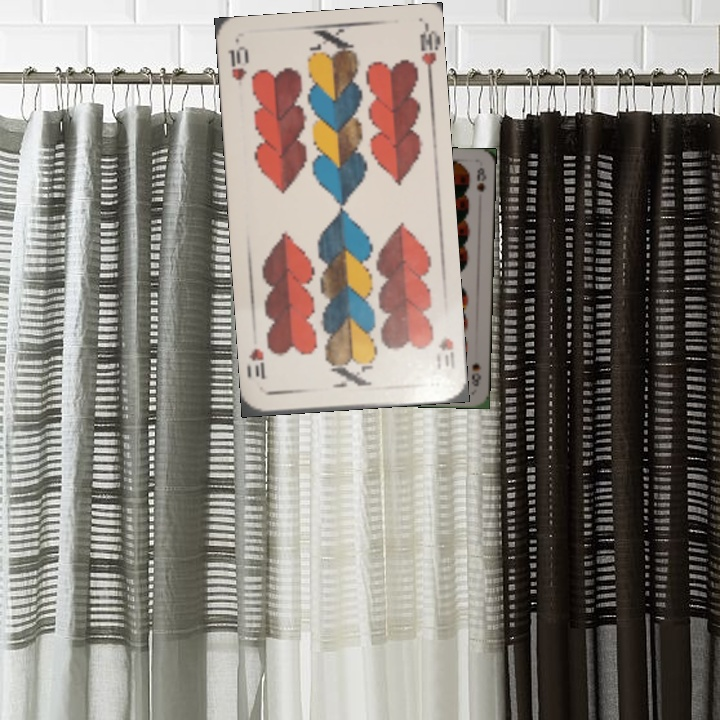H10: (223, 42, 251, 83), (432, 333, 458, 372)
S8: (468, 359, 484, 389)
